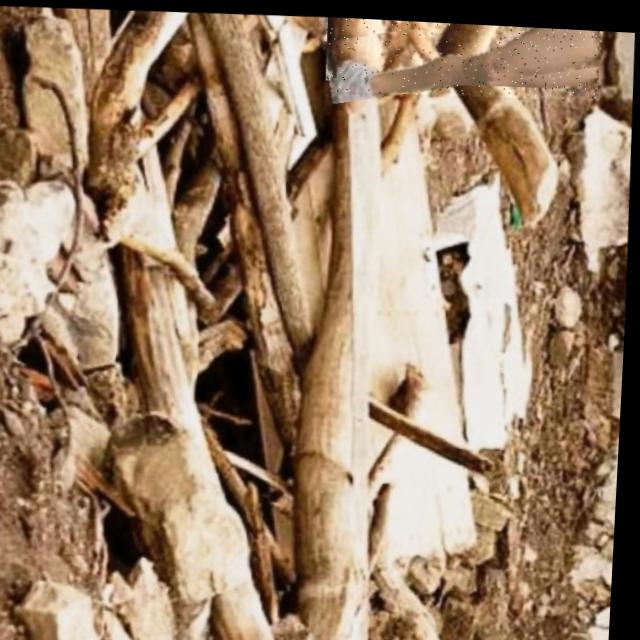Person in Rubble: (322, 13, 601, 98)
